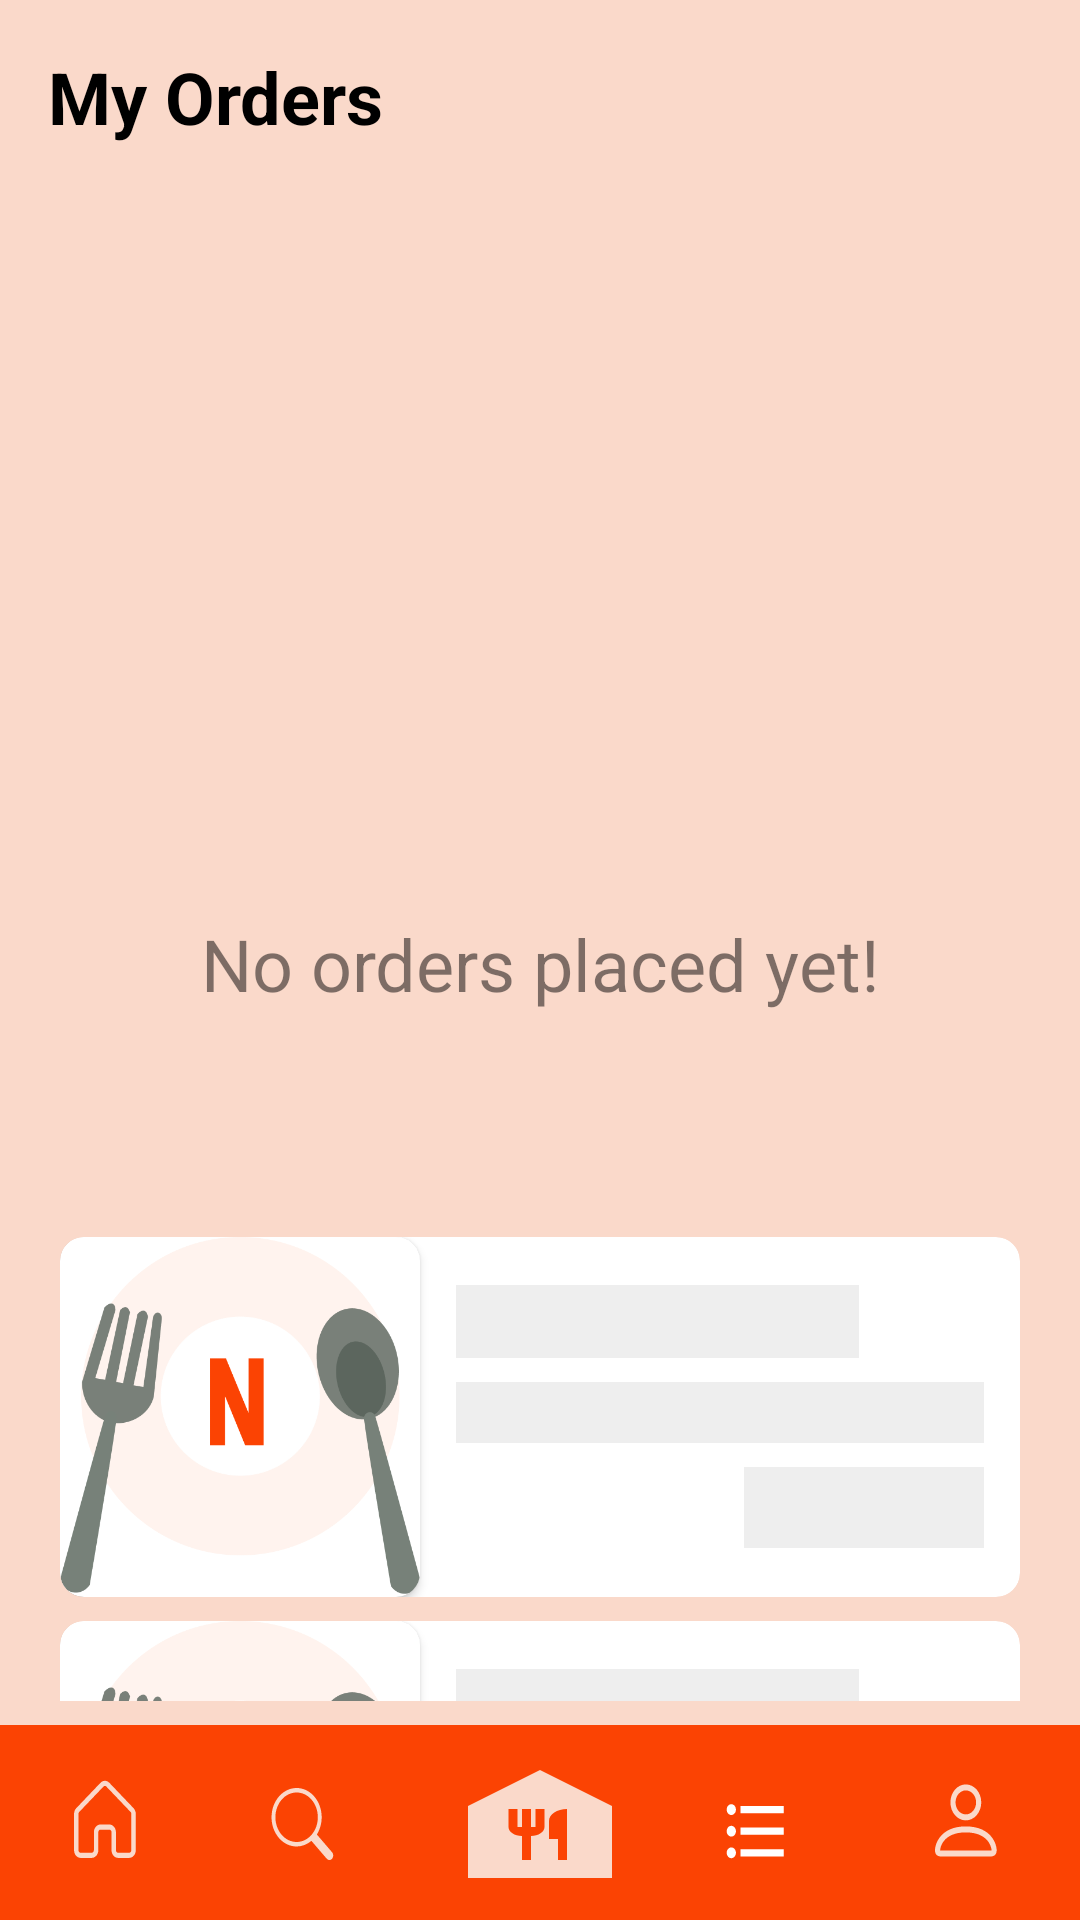

Named icons in this screenshot (1080px x 1920px) and their bounding boxes, {"left": x1, "top": y1, "right": x2, "bottom": y2}:
food: {"left": 468, "top": 1770, "right": 612, "bottom": 1878}
home: {"left": 74, "top": 1780, "right": 136, "bottom": 1858}
orders: {"left": 726, "top": 1804, "right": 784, "bottom": 1859}
search: {"left": 271, "top": 1788, "right": 334, "bottom": 1860}
user: {"left": 935, "top": 1784, "right": 997, "bottom": 1857}
